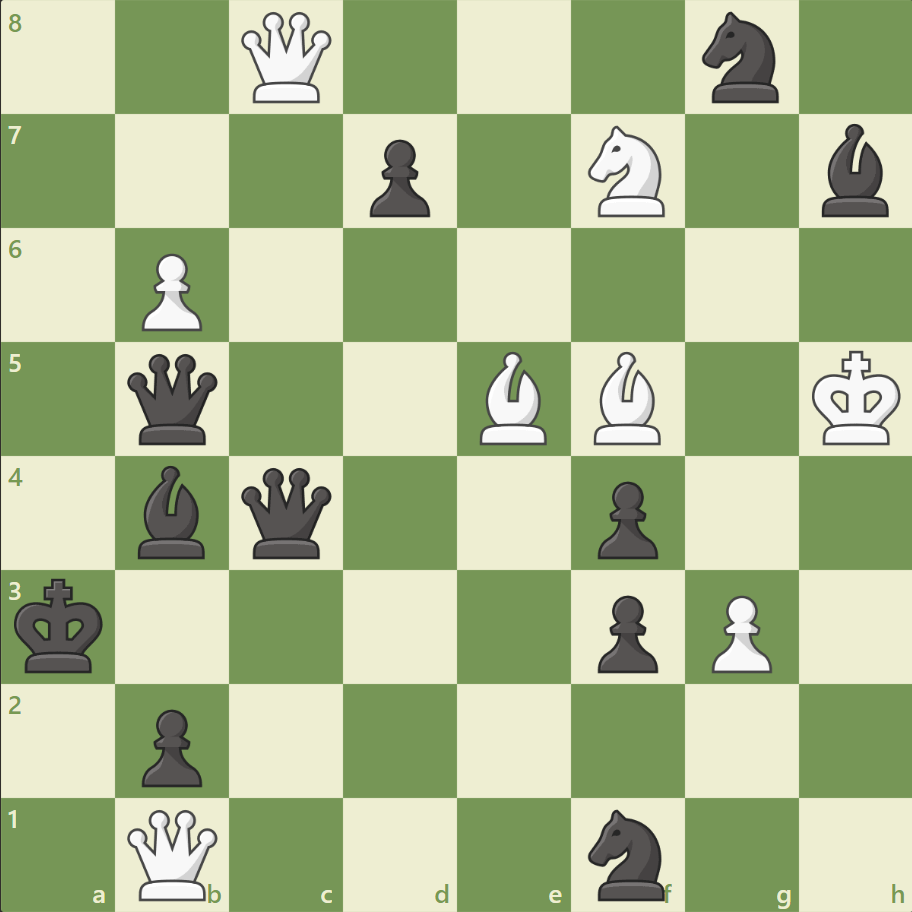B: (471, 347, 555, 449), (585, 347, 669, 449)
K: (806, 344, 906, 452)
N: (579, 121, 676, 223)
P: (133, 246, 208, 337), (701, 586, 776, 677)
Q: (237, 9, 336, 108), (124, 804, 223, 903)
b: (131, 460, 215, 563), (812, 120, 896, 222)
k: (11, 571, 111, 679)
n: (692, 7, 789, 110), (579, 802, 676, 904)
p: (133, 700, 208, 791), (361, 132, 435, 223), (588, 473, 662, 564), (588, 586, 662, 677)
q: (124, 349, 223, 449), (237, 463, 336, 562)
